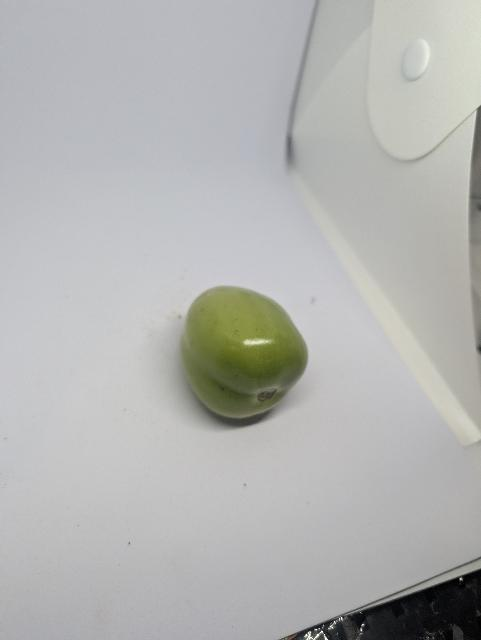green: (151, 267, 324, 434)
